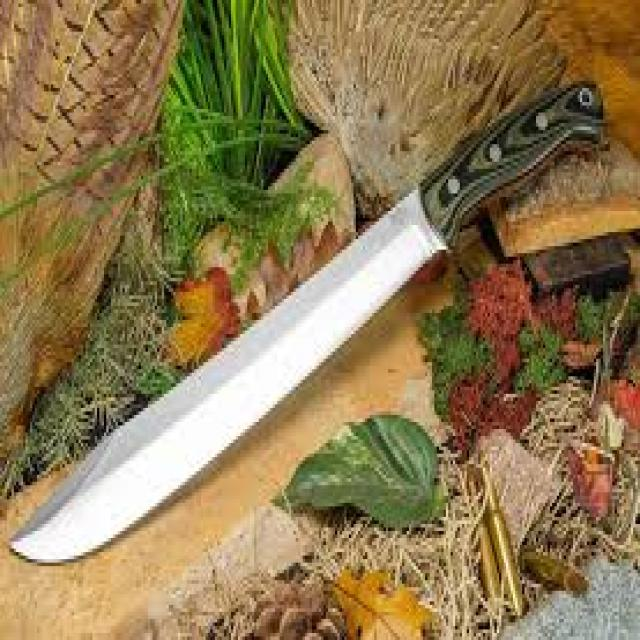knife: (7, 81, 604, 564)
